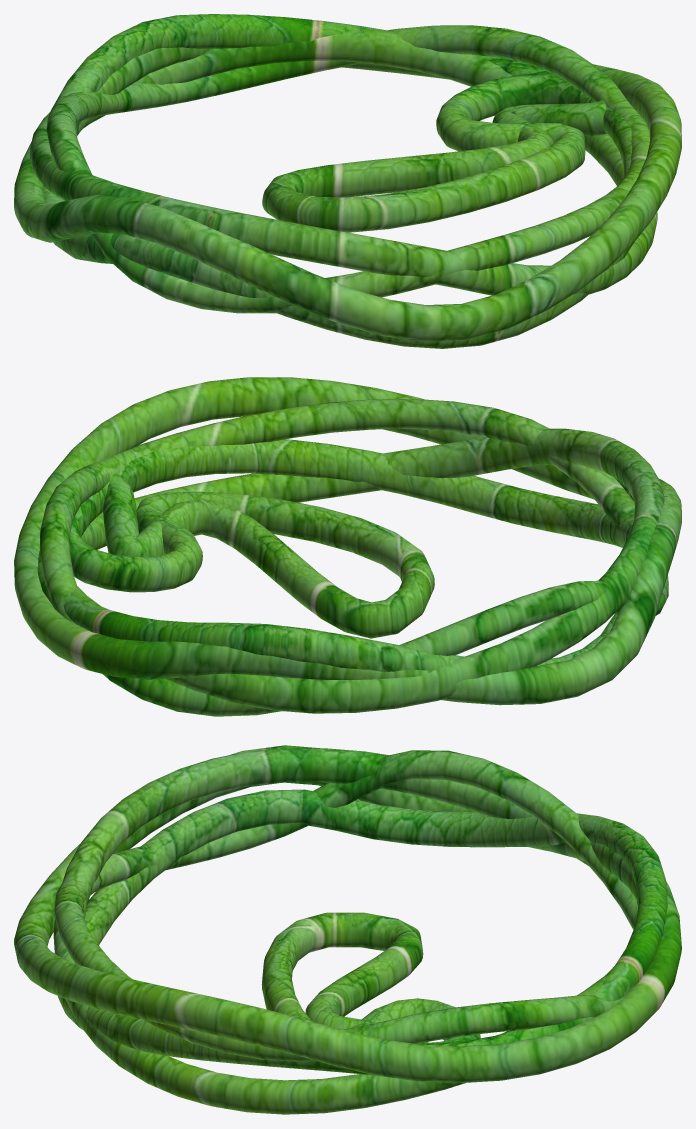
Rendered from cipo.fbx.
The picture shows the model from 3 angles, top to bottom: view 1: azimuth 30°, elevation 25°; view 2: azimuth 150°, elevation 25°; view 3: azimuth 270°, elevation 25°; orthographic projection. The views are drawn at different scales.
Parts seen in each view (by area): view 1: BezierCircle.004; view 2: BezierCircle.004; view 3: BezierCircle.004.
Boxes of the visible parts, x1=… form: BezierCircle.004: x1=14, y1=14, x2=681, y2=348; BezierCircle.004: x1=14, y1=377, x2=681, y2=716; BezierCircle.004: x1=14, y1=745, x2=681, y2=1114.
Bounding box in the file's own units: 227 × 49.98 × 227.
Materials: 1 (1 with a texture image).
